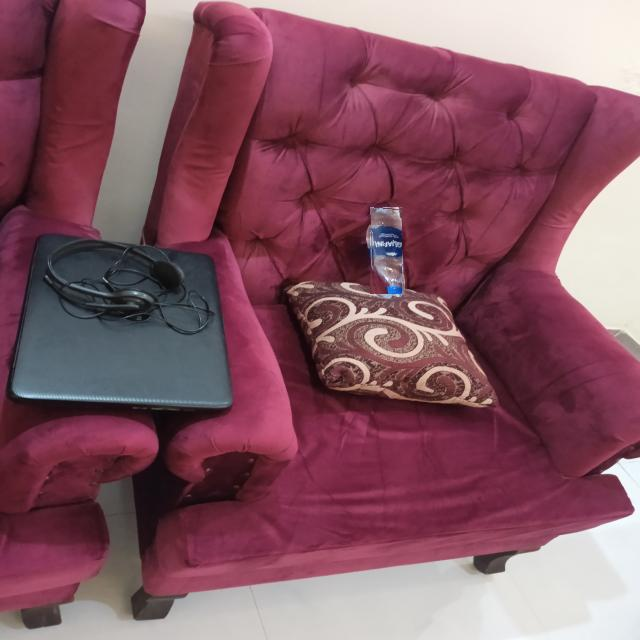Plastic: (369, 206, 402, 294)
